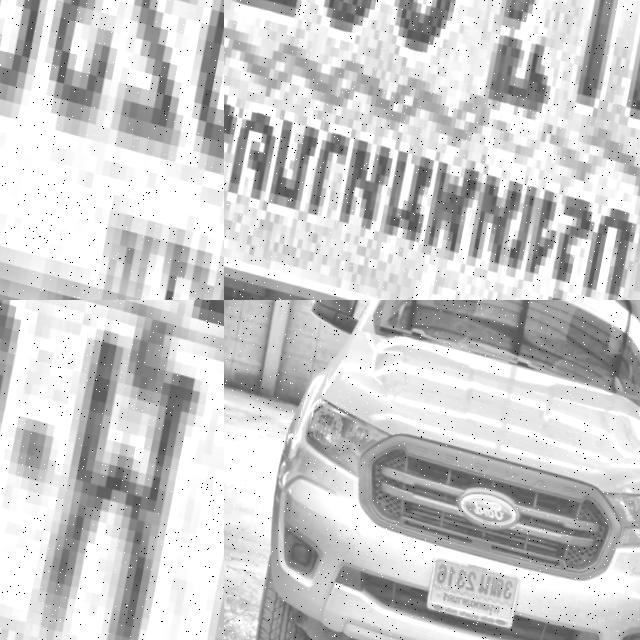license-plate: (224, 0, 640, 300), (0, 300, 224, 640), (0, 0, 224, 300), (420, 545, 524, 631)
